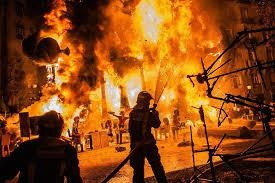fire: (18, 6, 246, 156)
